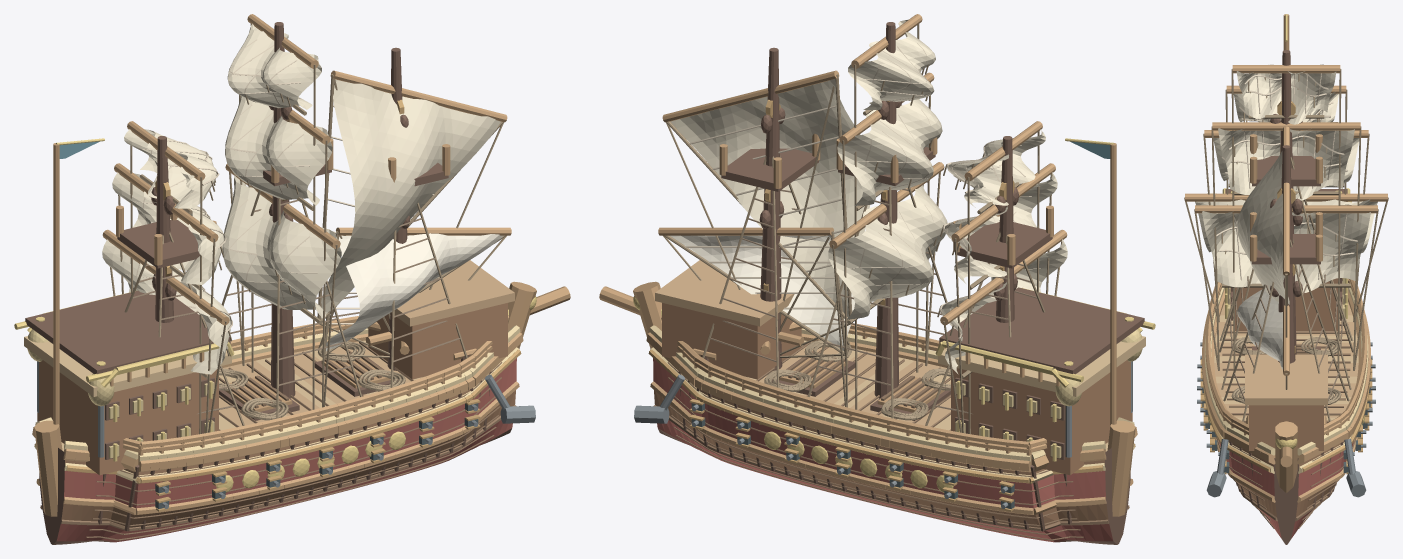
The model's file is manila_galleon-v5.glb.
The picture shows the model from 3 angles, left to right: view 1: azimuth 30°, elevation 25°; view 2: azimuth 150°, elevation 25°; view 3: azimuth 270°, elevation 25°; orthographic projection. The views are drawn at different scales.
Visible parts, largest first — view 1: manila_galleon_sails_sail, manila_galleon_deck_hull2, manila_galleon_hull_wood, manila_galleon_hull_red, manila_galleon_deck_darkwood, manila_galleon_masts_darkwood, manila_galleon_hull_seam, manila_galleon_rigging_wood, manila_galleon_sails_sailbright, manila_galleon_rigging_rope, manila_galleon_railings_wood, manila_galleon_hull_pale (+23 smaller); view 2: manila_galleon_sails_sail, manila_galleon_deck_hull2, manila_galleon_masts_darkwood, manila_galleon_hull_wood, manila_galleon_hull_red, manila_galleon_deck_darkwood, manila_galleon_rigging_rope, manila_galleon_rigging_wood, manila_galleon_hull_seam, manila_galleon_railings_wood, manila_galleon_hull_pale, manila_galleon_hull_hull2 (+23 smaller); view 3: manila_galleon_sails_sail, manila_galleon_rigging_wood, manila_galleon_rigging_rope, manila_galleon_hull_wood, manila_galleon_masts_darkwood, manila_galleon_deck_hull2, manila_galleon_deck_deck, manila_galleon_masts_rope, manila_galleon_hull_deck, manila_galleon_railings_wood, manila_galleon_hull_seam, manila_galleon_hull_red (+16 smaller).
Boxes of the visible parts, x1,y1,x2,y2 form: manila_galleon_sails_sail: [102, 23, 500, 374]; manila_galleon_deck_hull2: [37, 303, 507, 475]; manila_galleon_hull_wood: [32, 281, 570, 516]; manila_galleon_hull_red: [56, 358, 516, 542]; manila_galleon_deck_darkwood: [25, 290, 230, 459]; manila_galleon_masts_darkwood: [117, 22, 448, 398]; manila_galleon_hull_seam: [40, 342, 516, 540]; manila_galleon_rigging_wood: [102, 14, 511, 325]; manila_galleon_sails_sailbright: [326, 233, 502, 351]; manila_galleon_rigging_rope: [110, 24, 506, 444]; manila_galleon_railings_wood: [123, 316, 492, 465]; manila_galleon_hull_pale: [35, 325, 520, 483]; manila_galleon_sails_sail: [670, 19, 1067, 374]; manila_galleon_deck_hull2: [662, 303, 1132, 475]; manila_galleon_masts_darkwood: [721, 22, 1052, 398]; manila_galleon_hull_wood: [599, 281, 1137, 516]; manila_galleon_hull_red: [653, 358, 1113, 542]; manila_galleon_deck_darkwood: [939, 287, 1144, 459]; manila_galleon_rigging_rope: [663, 24, 1062, 444]; manila_galleon_rigging_wood: [658, 14, 1067, 325]; manila_galleon_hull_seam: [653, 342, 1129, 540]; manila_galleon_railings_wood: [677, 323, 1046, 465]; manila_galleon_hull_pale: [649, 325, 1134, 483]; manila_galleon_hull_hull2: [654, 389, 1108, 527]; manila_galleon_sails_sail: [1195, 64, 1377, 304]; manila_galleon_rigging_wood: [1185, 65, 1387, 375]; manila_galleon_rigging_rope: [1184, 69, 1388, 389]; manila_galleon_hull_wood: [1202, 288, 1370, 502]; manila_galleon_masts_darkwood: [1252, 50, 1320, 363]; manila_galleon_deck_hull2: [1235, 278, 1338, 450]; manila_galleon_deck_deck: [1245, 354, 1327, 405]; manila_galleon_masts_rope: [1219, 157, 1353, 421]; manila_galleon_hull_deck: [1214, 302, 1358, 417]; manila_galleon_railings_wood: [1205, 278, 1367, 435]; manila_galleon_hull_seam: [1216, 302, 1356, 528]; manila_galleon_hull_red: [1219, 441, 1353, 538].
Bounding box in the file's own units: 60.21 × 51.3 × 23.53.
